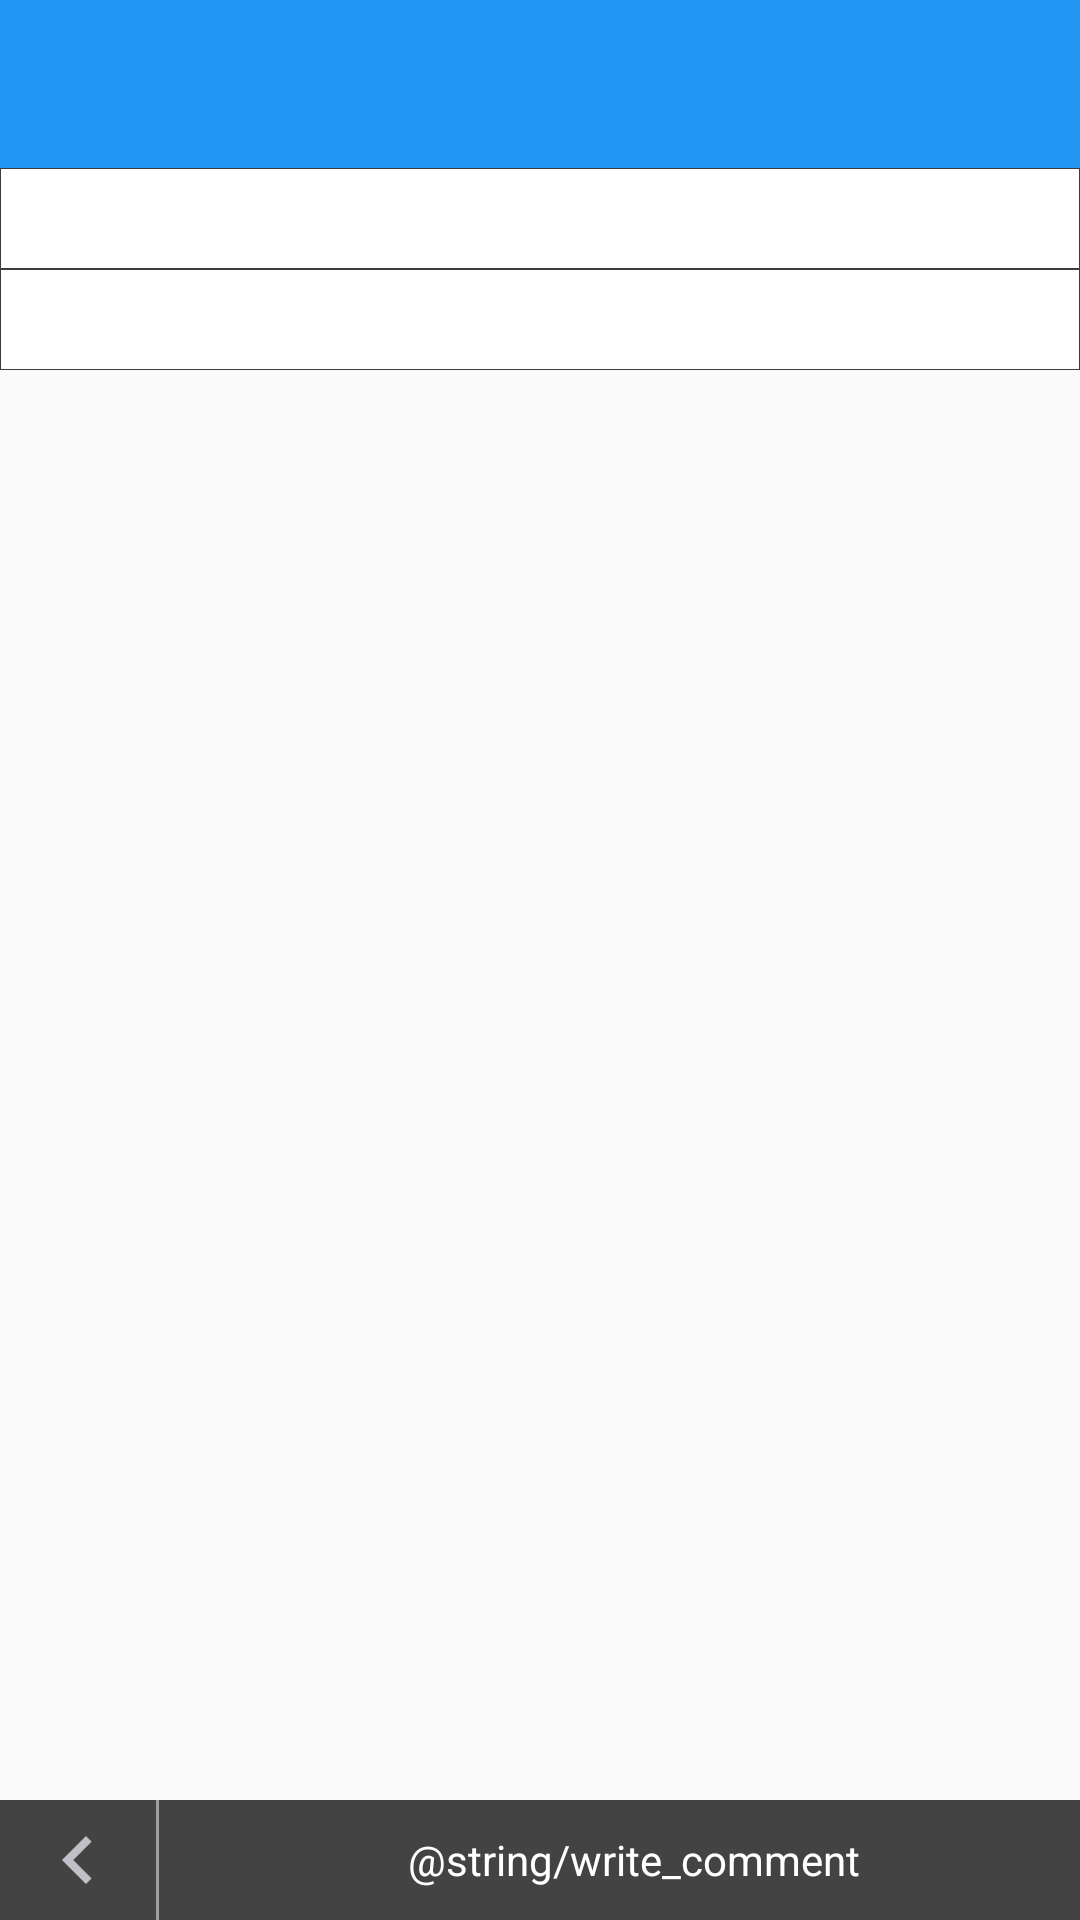

Where icons sit on this 1080 × 1920 app screen, as (x1, y1, x2, y2):
back: (62, 1836, 92, 1884)
